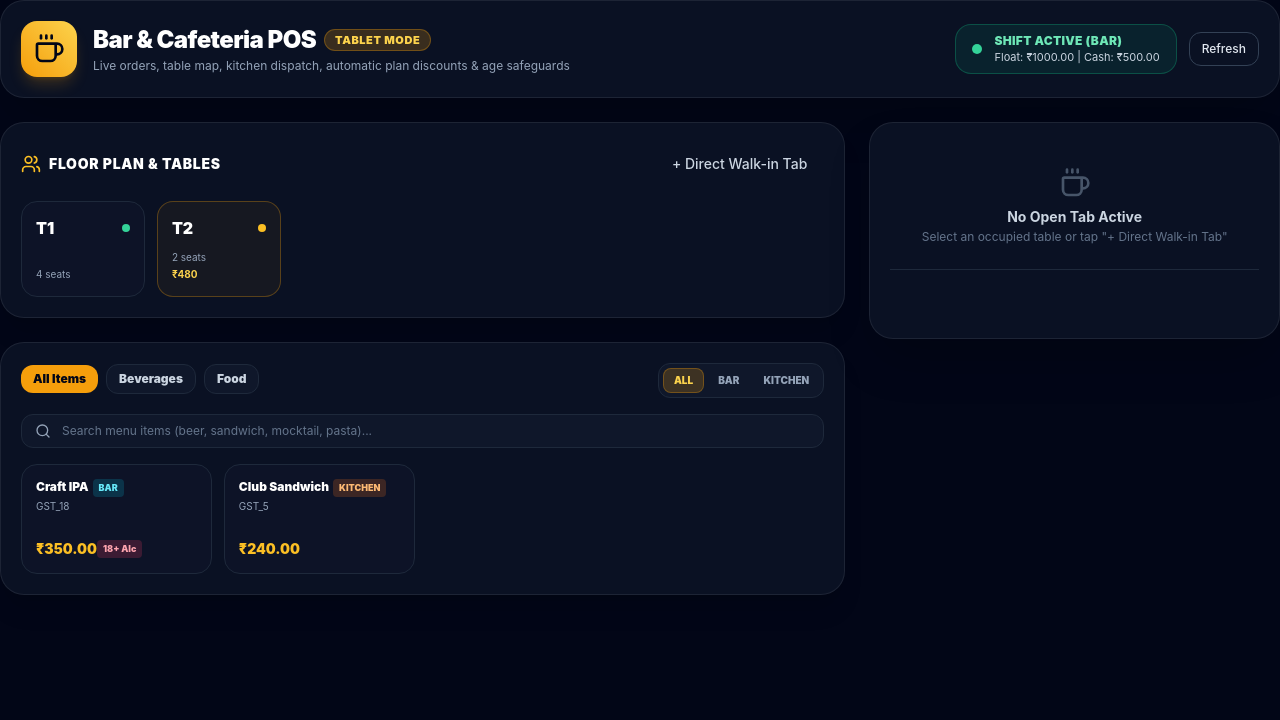
Test: Bar POS & Kitchen Display Tests › loads tab details when clicking an occupied table
Click the text "T2". click: (183, 228)
box: x1=172 y1=216 x2=193 y2=240
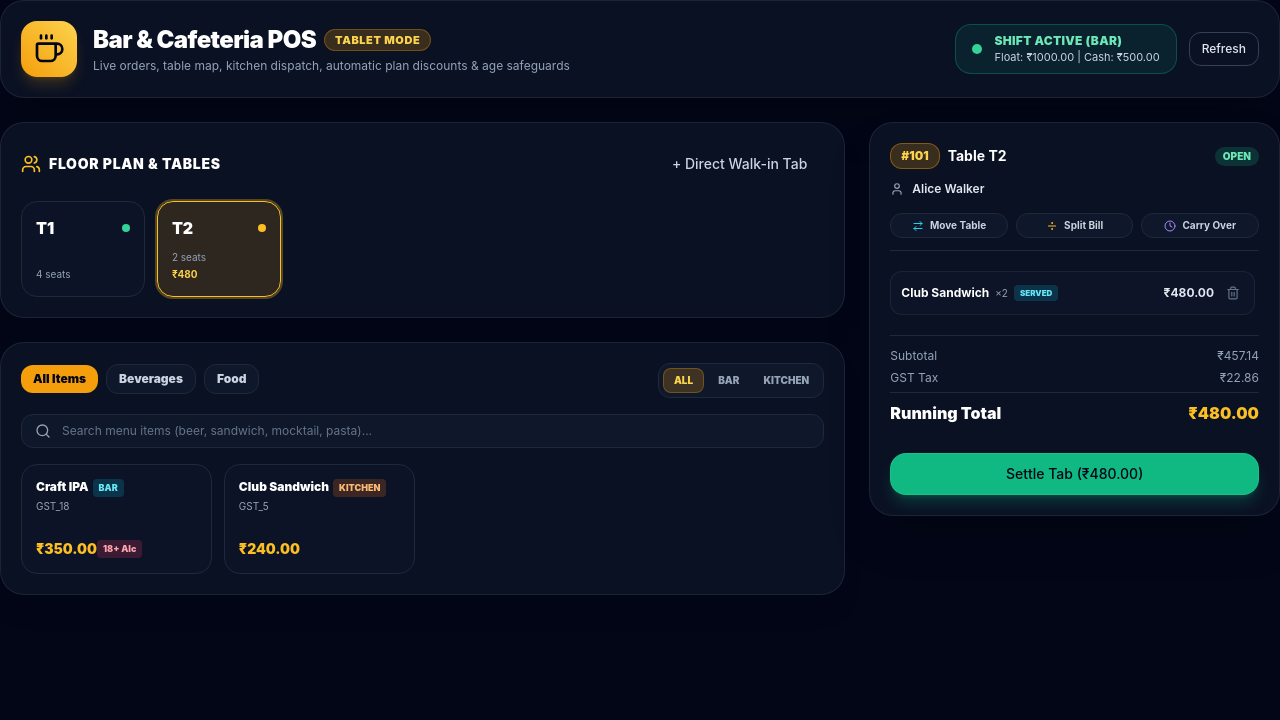
Now the text "#101" is shown, box x1=890 y1=143 x2=940 y2=169
Now the text "Alice Walker" is shown, box x1=912 y1=181 x2=984 y2=197
